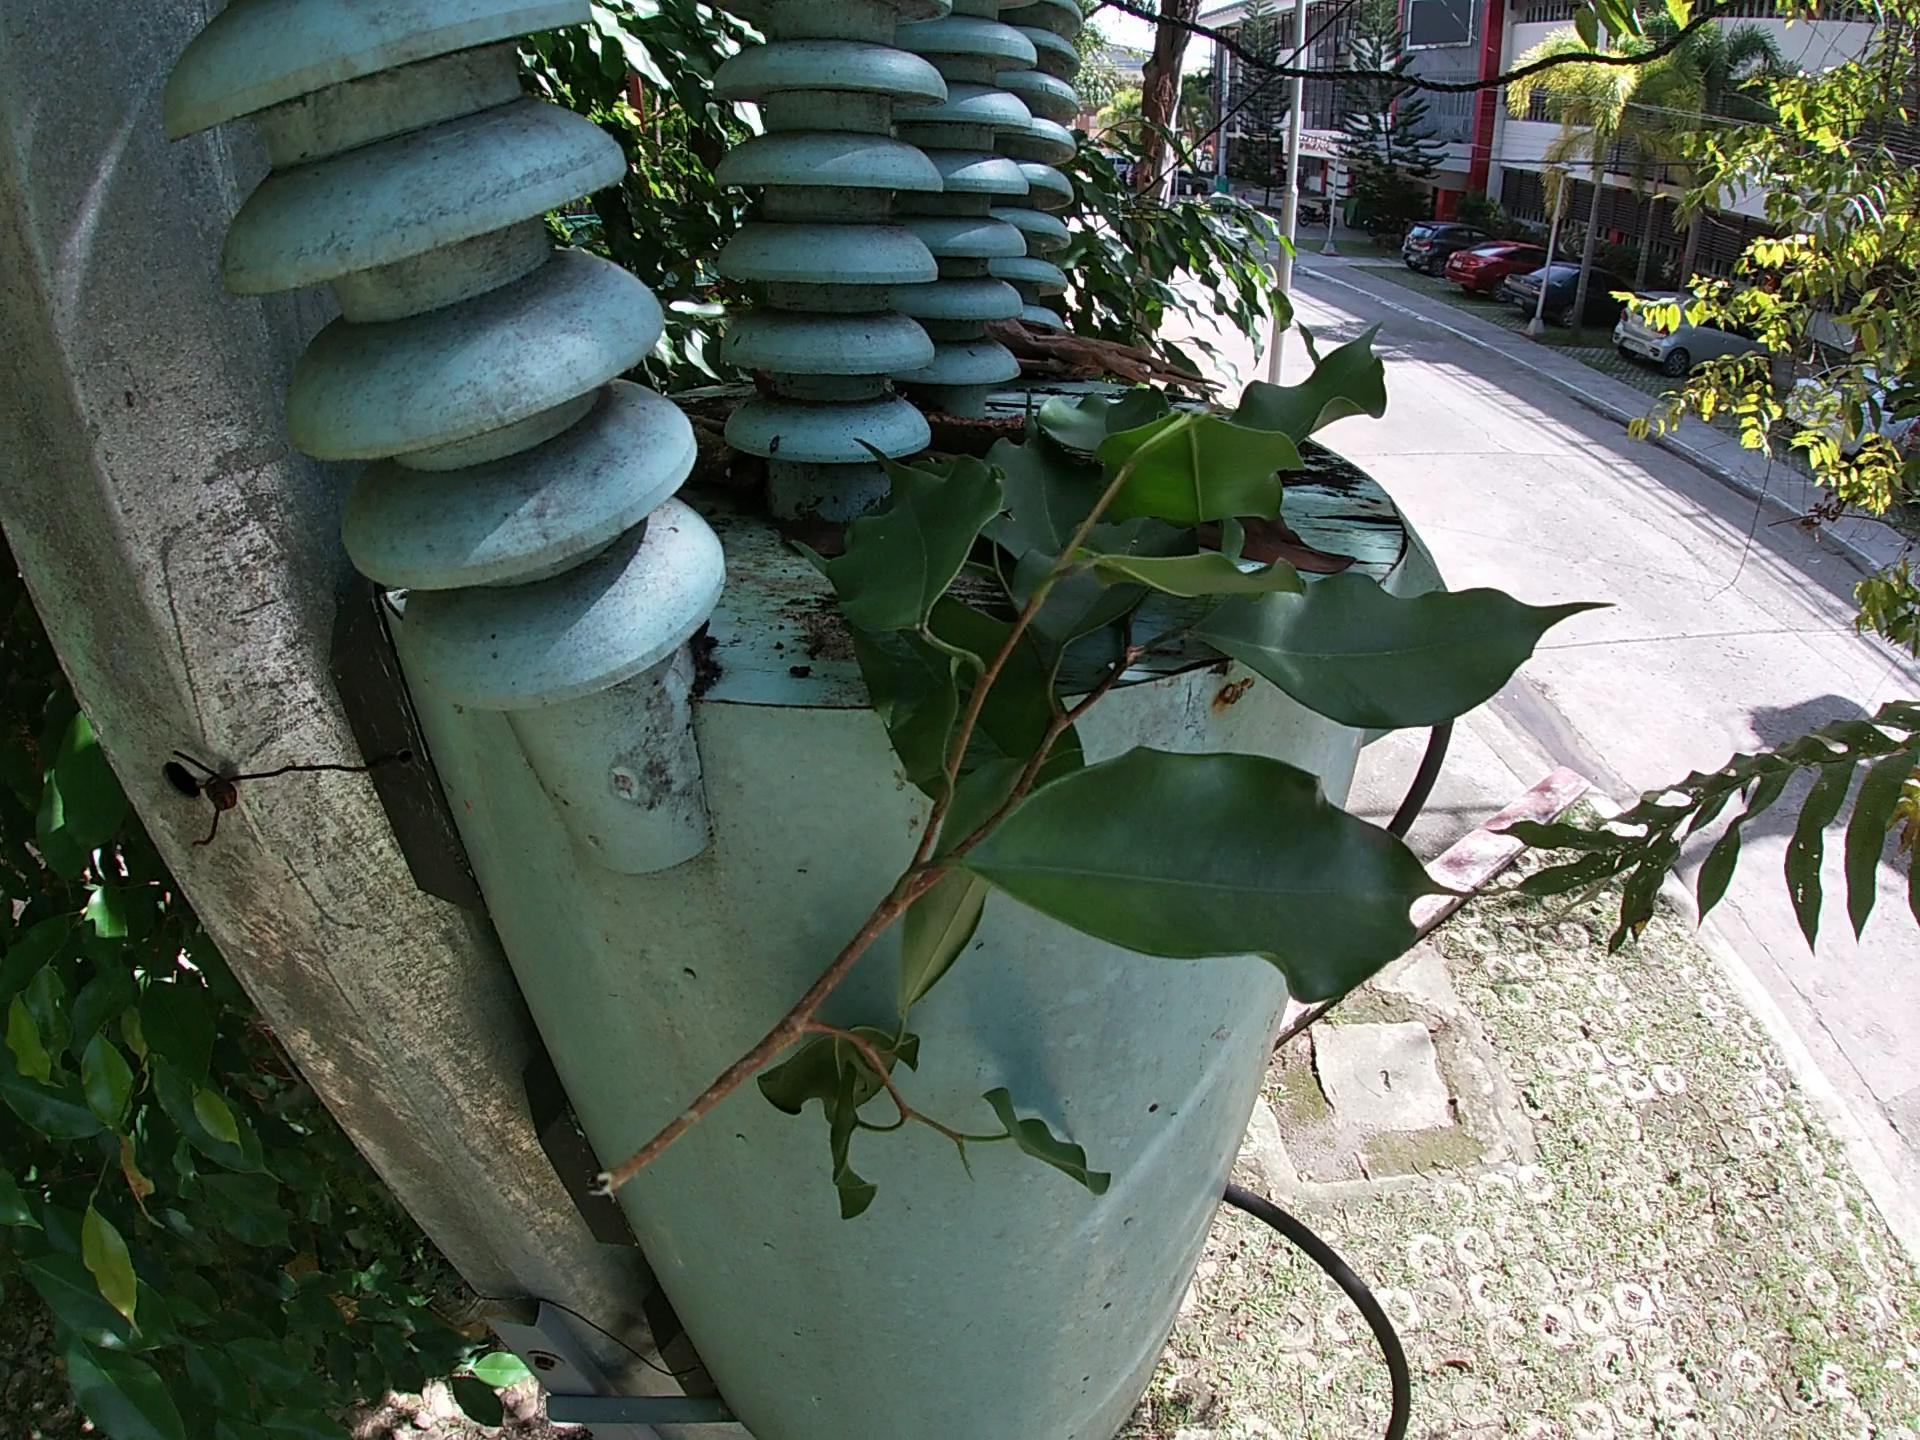branch with leaves: (584, 313, 1619, 1234)
leaf: (1197, 511, 1370, 576)
mahogany fruit: (909, 405, 1042, 464)
tree branch: (983, 312, 1234, 402)
